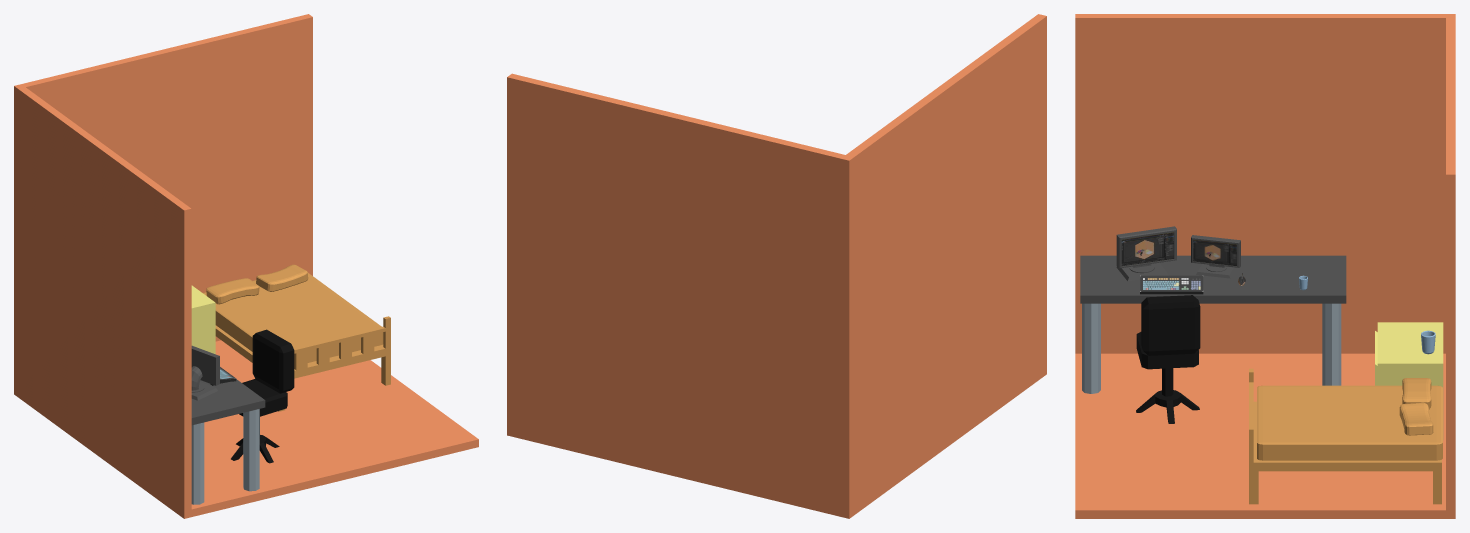
Rendered from room.glb.
3 renders of one model, left to right at view 1: azimuth 30°, elevation 25°; view 2: azimuth 150°, elevation 25°; view 3: azimuth 270°, elevation 25°, orthographic. The views are drawn at different scales.
Parts seen in each view (by area): view 1: Cabinet; view 2: Cabinet; view 3: Cabinet.
Part boxes in pixels (x1=…): Cabinet: x1=14, y1=14, x2=478, y2=518; Cabinet: x1=507, y1=14, x2=1046, y2=518; Cabinet: x1=1075, y1=14, x2=1455, y2=518.
Bounding box in the file's own units: 2 × 2 × 2.
Materials: 11 (2 with a texture image).
